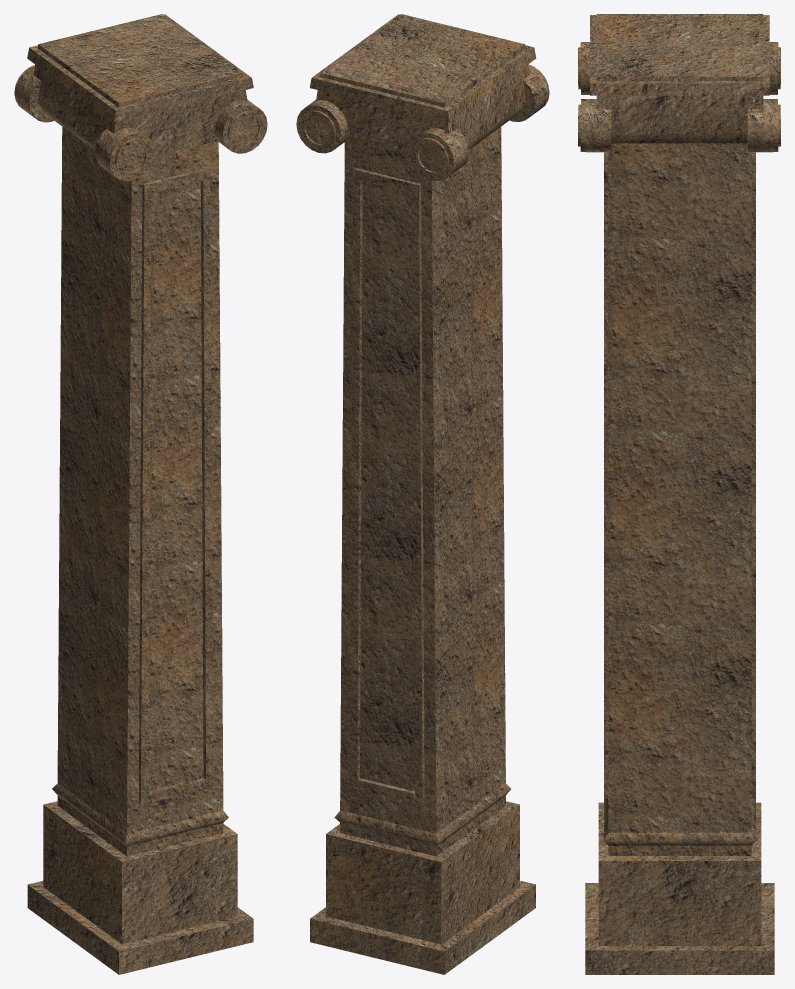
Rendered from column.glb.
3 views of the same model, side by side, from view 1: azimuth 30°, elevation 25°; view 2: azimuth 150°, elevation 25°; view 3: azimuth 270°, elevation 25° (orthographic). The views are drawn at different scales.
Parts seen in each view (by area): view 1: Column; view 2: Column; view 3: Column.
Boxes of the visible parts, <box> form: Column: <box>14,14,267,974</box>; Column: <box>296,14,549,974</box>; Column: <box>578,14,780,974</box>.
Bounding box in the file's own units: 0.00502 × 0.0263 × 0.0054.
Materials: 1 (1 with a texture image).
